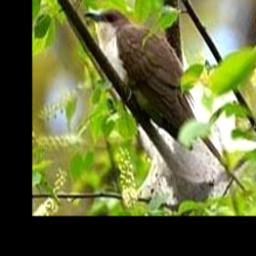Cuckoo: (84, 8, 244, 189)
